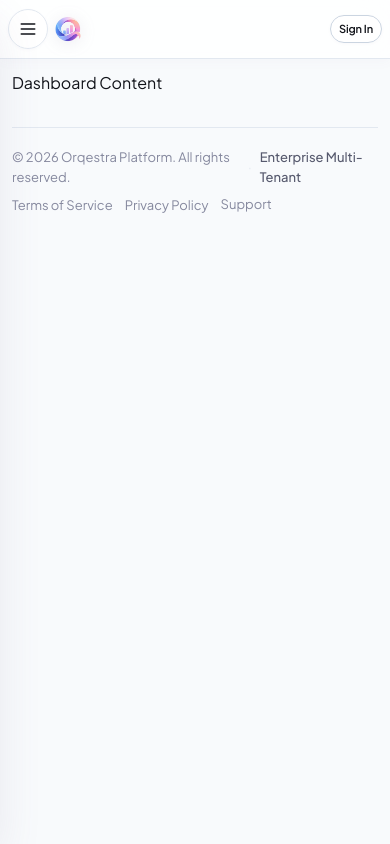
it: Responsive Layout & Cross-Device Optimization Suite › MainLayout Responsive Orchestration › manages mobile drawer state and synchronizes Header and NavigationShell
Expected: the text "Dashboard Content" is shown, x1=12 y1=72 x2=162 y2=93
Note: Mobile toggle opens drawer
Click the button named "Open navigation menu": [28, 29] box x1=8 y1=9 x2=48 y2=49
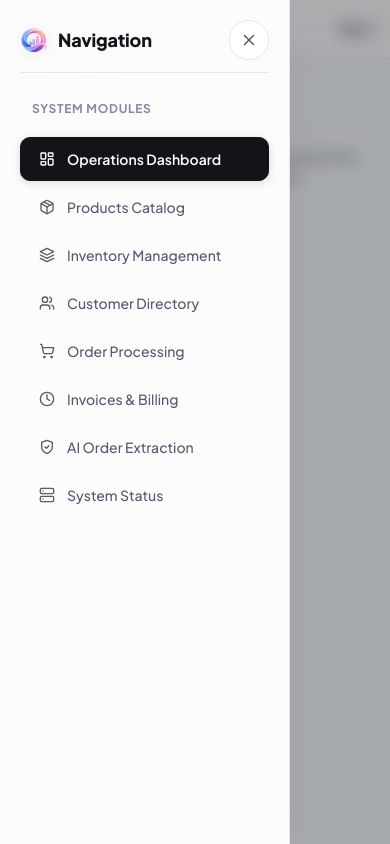
Expected: the element with test id "nav-backdrop" is shown
Note: Close via backdrop click
Click the element with test id "nav-backdrop": [367, 422] box x1=0 y1=0 x2=389 y2=843
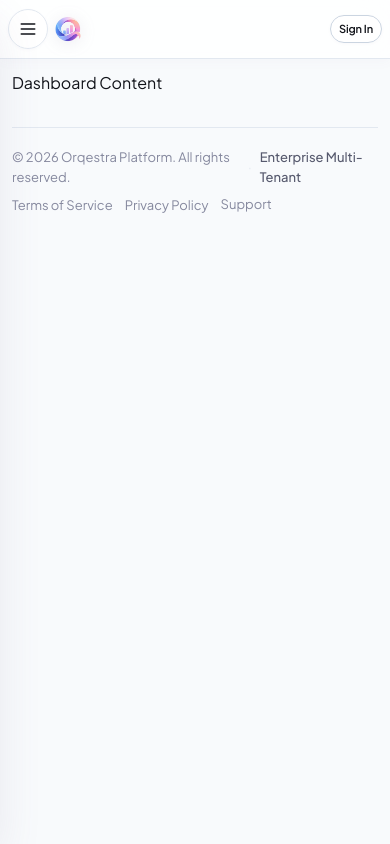
Expected: the element with test id "nav-backdrop" is gone
